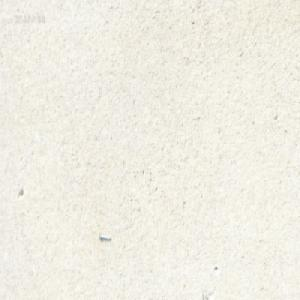Nail: (97, 231, 112, 241)
